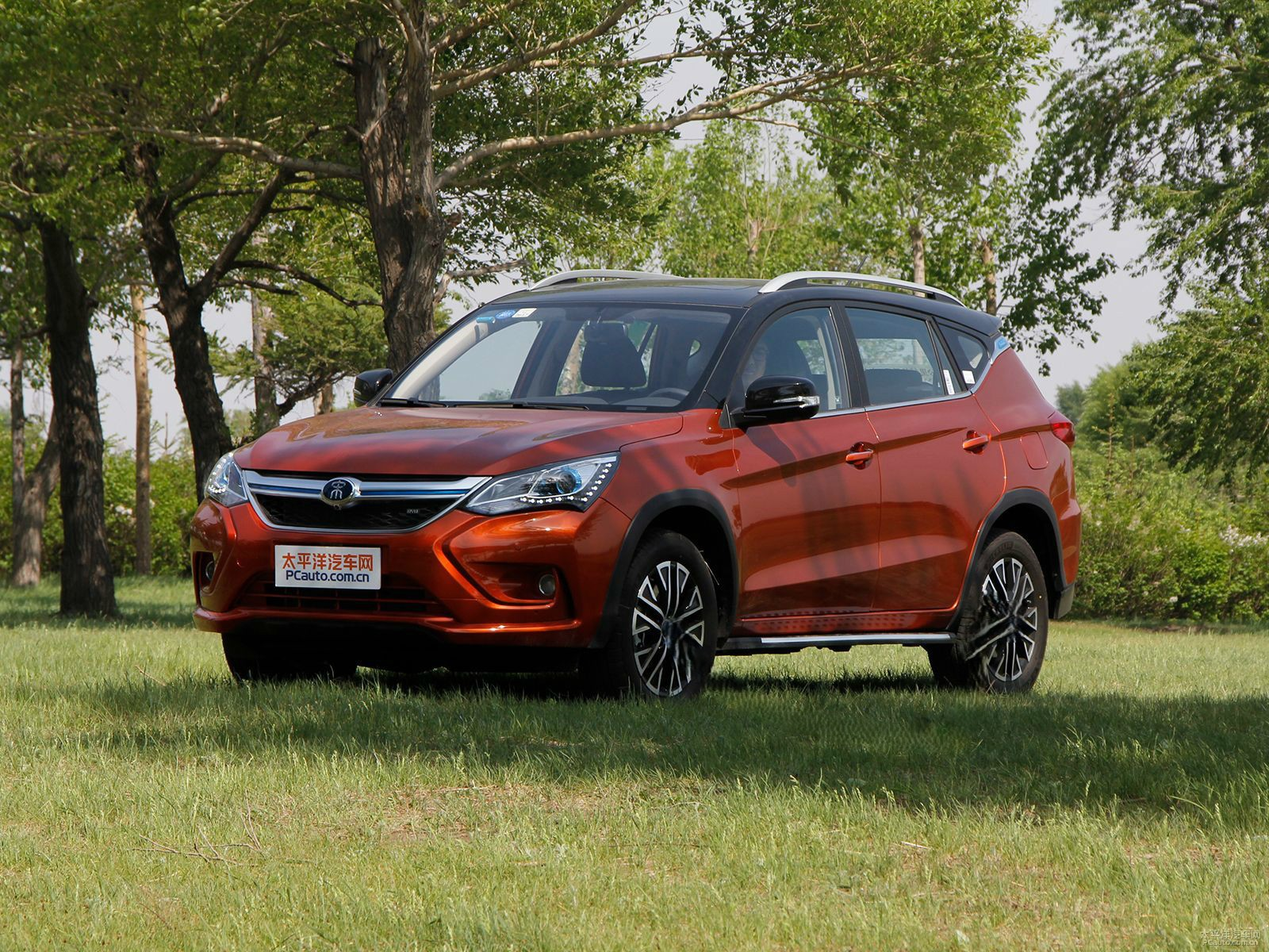BYD Song: (322, 478, 355, 501)
